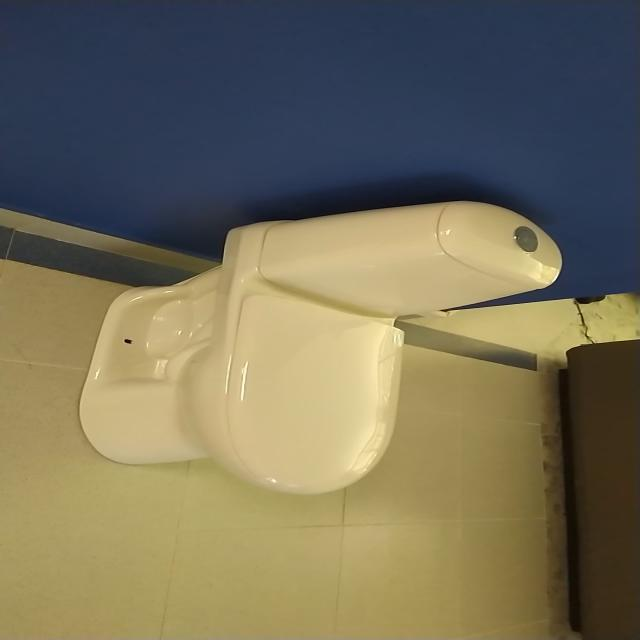toilet: (78, 199, 562, 495)
